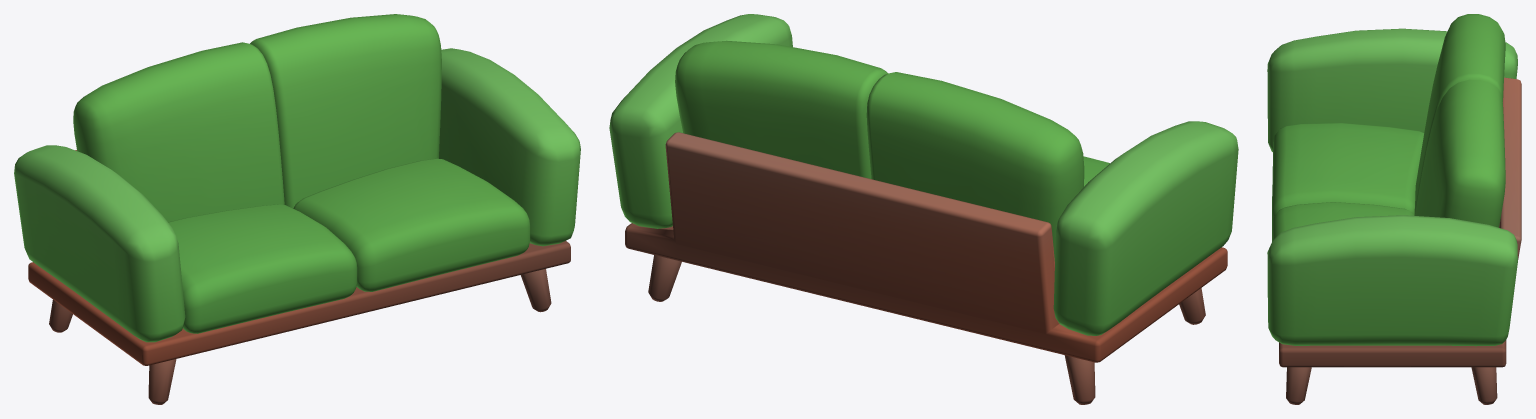
The model's file is Couch_09.glb.
The picture shows the model from 3 angles, left to right: view 1: azimuth 30°, elevation 25°; view 2: azimuth 150°, elevation 25°; view 3: azimuth 270°, elevation 25°; orthographic projection. The views are drawn at different scales.
Visible parts, largest first — view 1: Couch_09; view 2: Couch_09; view 3: Couch_09.
Boxes of the visible parts, box(x1,y1,x2,y2) form: Couch_09: box(14, 14, 580, 404); Couch_09: box(609, 14, 1238, 404); Couch_09: box(1267, 14, 1521, 404).
Bounding box in the file's own units: 1.64 × 0.8499 × 0.8191.
Materials: 1 (1 with a texture image).
